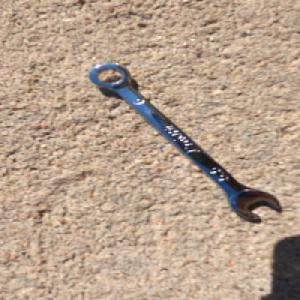Wrench: (84, 62, 281, 222)
